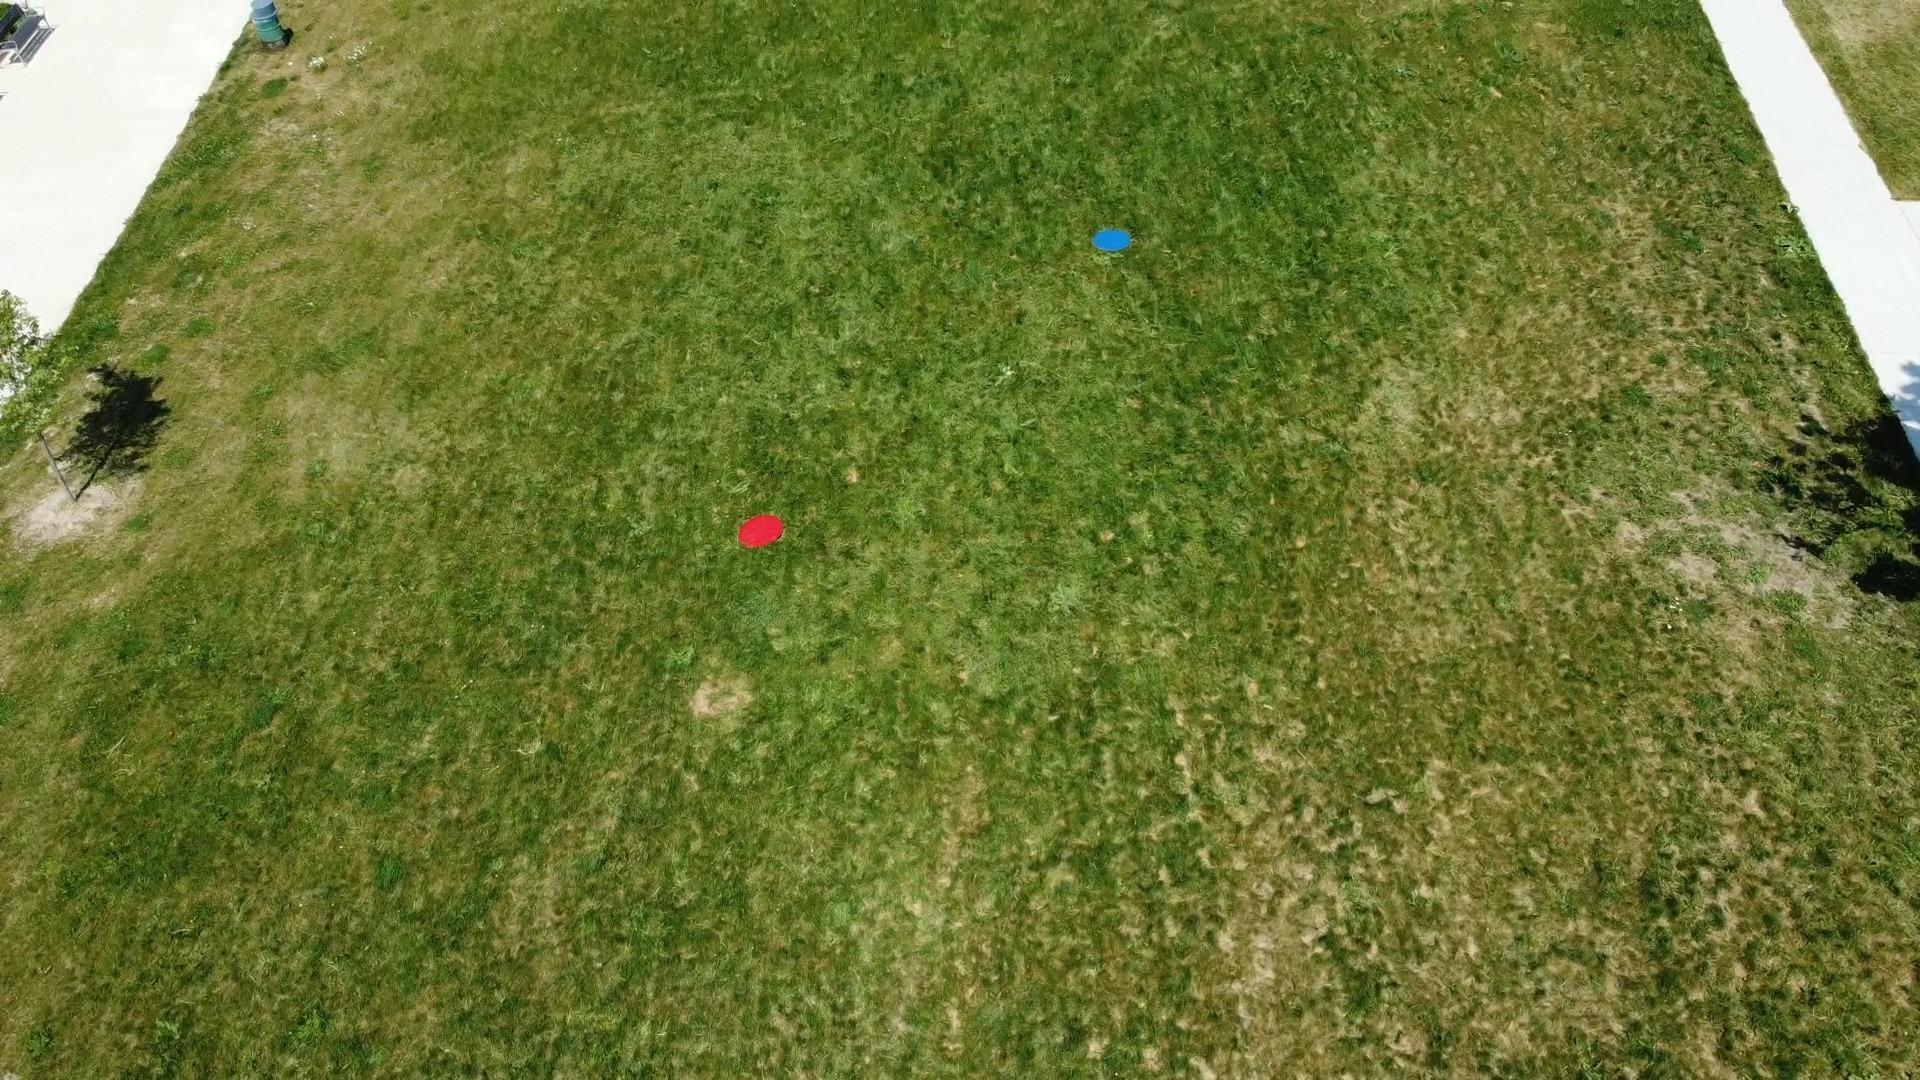Blue: (1088, 227, 1134, 253)
Red: (737, 513, 786, 551)
